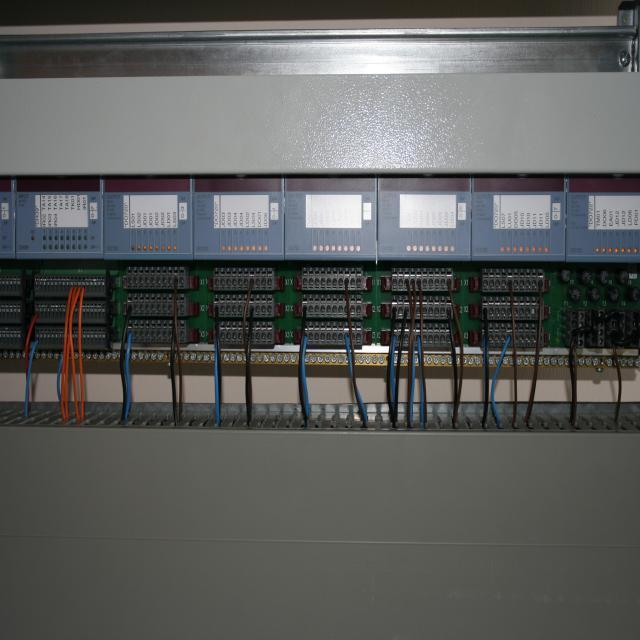SPS_System_Steuerungskomponente: (471, 175, 567, 259), (378, 175, 471, 260), (285, 175, 377, 259), (193, 175, 285, 257), (103, 175, 193, 258), (15, 174, 103, 257), (566, 176, 640, 260)
